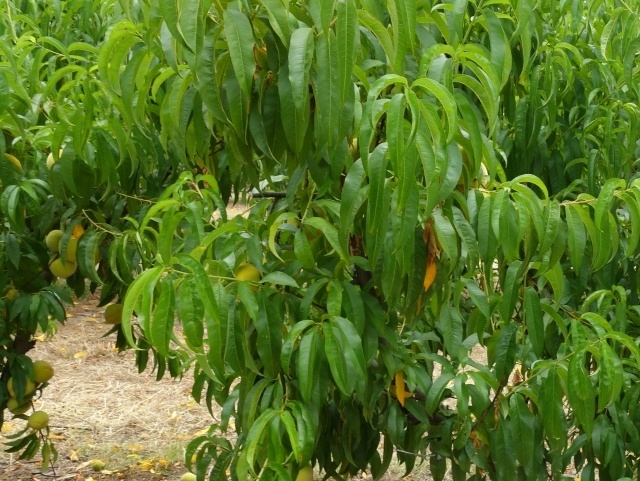peach: (46, 253, 81, 283), (2, 373, 37, 399), (24, 358, 57, 385), (230, 260, 262, 287), (2, 394, 35, 419), (55, 238, 83, 263), (102, 302, 127, 329), (43, 228, 68, 253), (26, 409, 51, 432), (44, 147, 69, 170), (292, 461, 317, 480)
